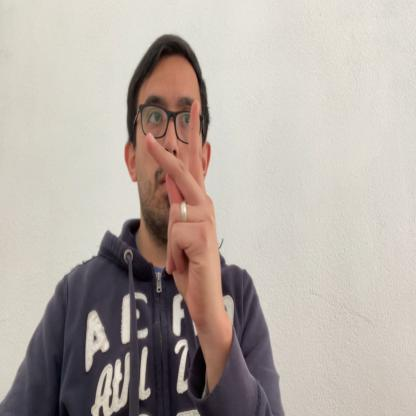P: (146, 100, 225, 343)
